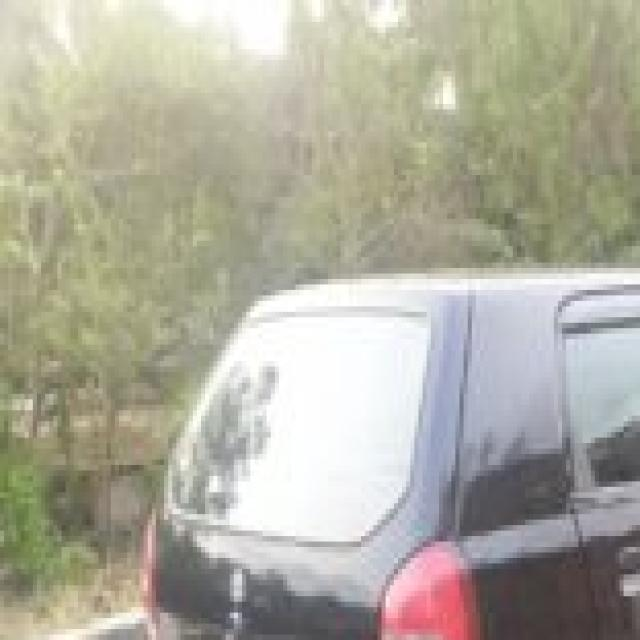car: (156, 268, 640, 640)
